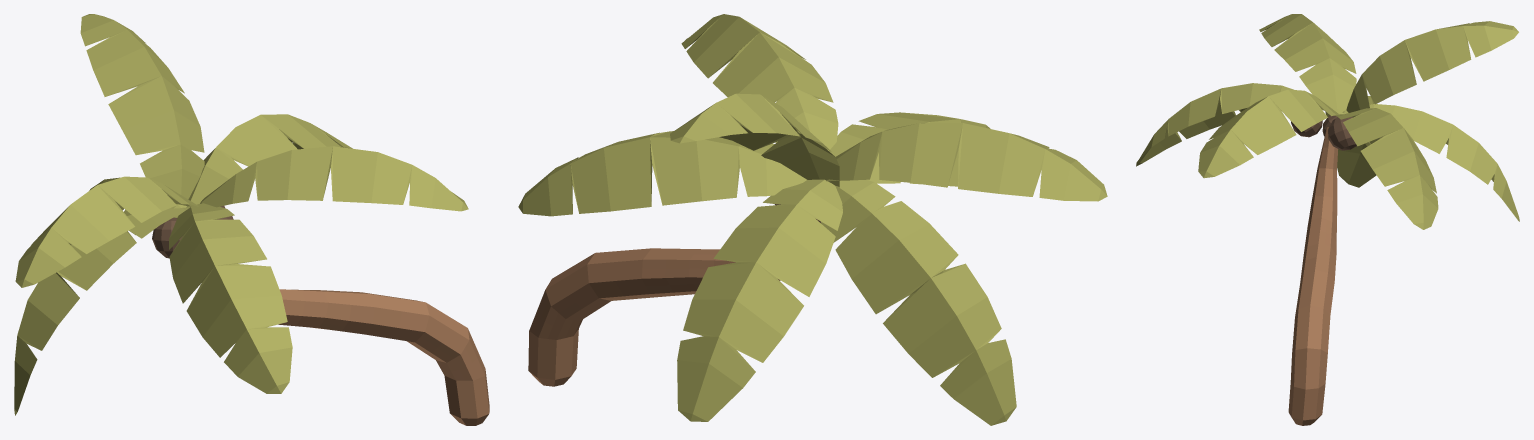
File: pohon 3.fbx
The picture shows the model from 3 angles, left to right: view 1: azimuth 30°, elevation 25°; view 2: azimuth 150°, elevation 25°; view 3: azimuth 270°, elevation 25°; orthographic projection. The views are drawn at different scales.
Parts seen in each view (by area): view 1: Cylinder.001; view 2: Cylinder.001; view 3: Cylinder.001.
Part boxes in pixels (x1,y1,x2,y2): Cylinder.001: (14,14,489,425); Cylinder.001: (518,14,1107,425); Cylinder.001: (1136,14,1519,425).
Size of the model in its own units: 596 by 441 by 510.
